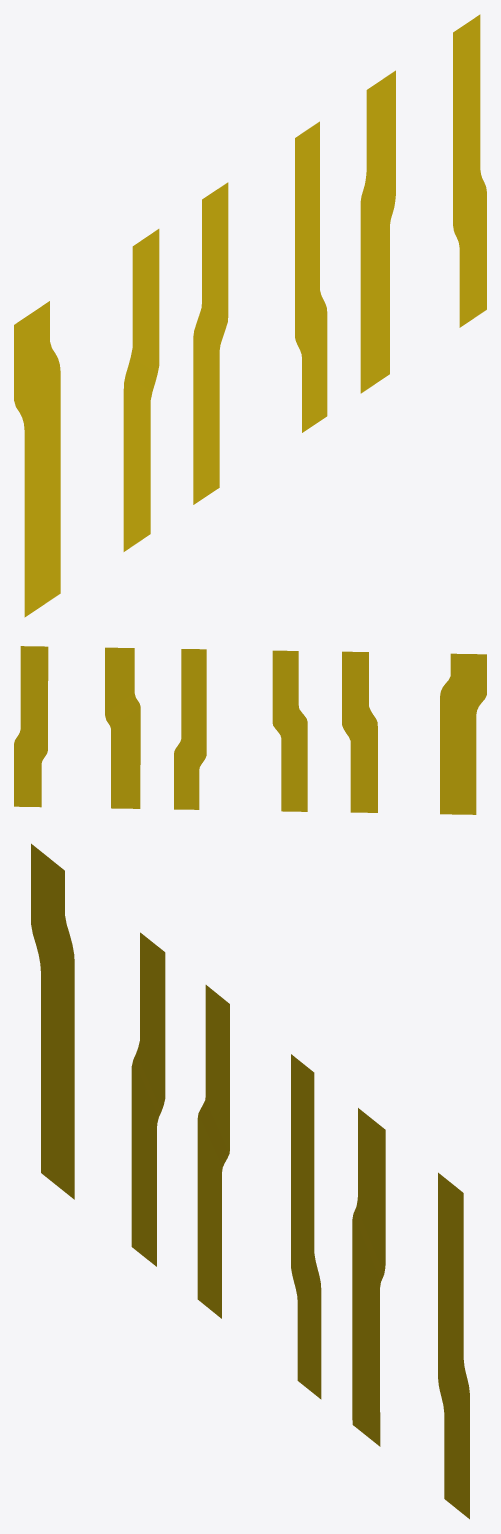
File: CD_JZ_vr_wall02_lightbeam.FBX
3 renders of one model, top to bottom at view 1: azimuth 30°, elevation 25°; view 2: azimuth 150°, elevation 25°; view 3: azimuth 270°, elevation 25°, orthographic. The views are drawn at different scales.
Parts seen in each view (by area): view 1: CD_JZ_vr_wall02_liightbeam; view 2: CD_JZ_vr_wall02_liightbeam; view 3: CD_JZ_vr_wall02_liightbeam.
Boxes of the visible parts, x1,y1,x2,y2 form: CD_JZ_vr_wall02_liightbeam: (14, 14, 486, 617); CD_JZ_vr_wall02_liightbeam: (14, 646, 486, 814); CD_JZ_vr_wall02_liightbeam: (31, 843, 469, 1519).
Size of the model in its own units: 1328 by 694 by 561.
